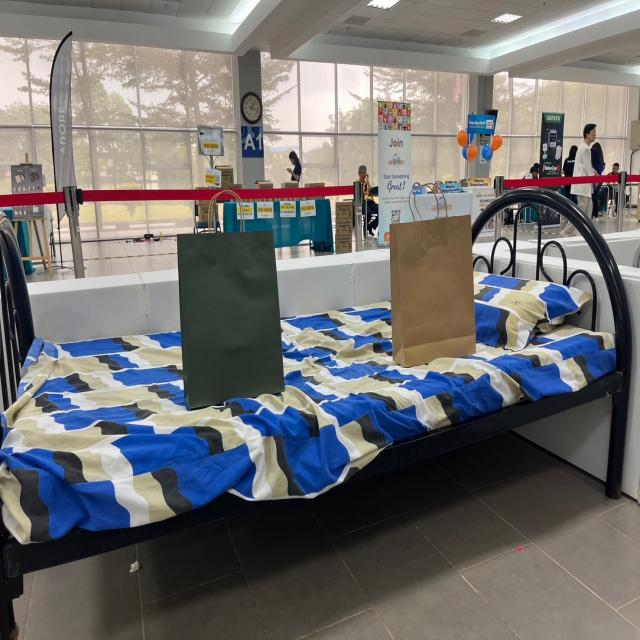bag: (177, 195, 294, 402), (393, 187, 478, 361)
